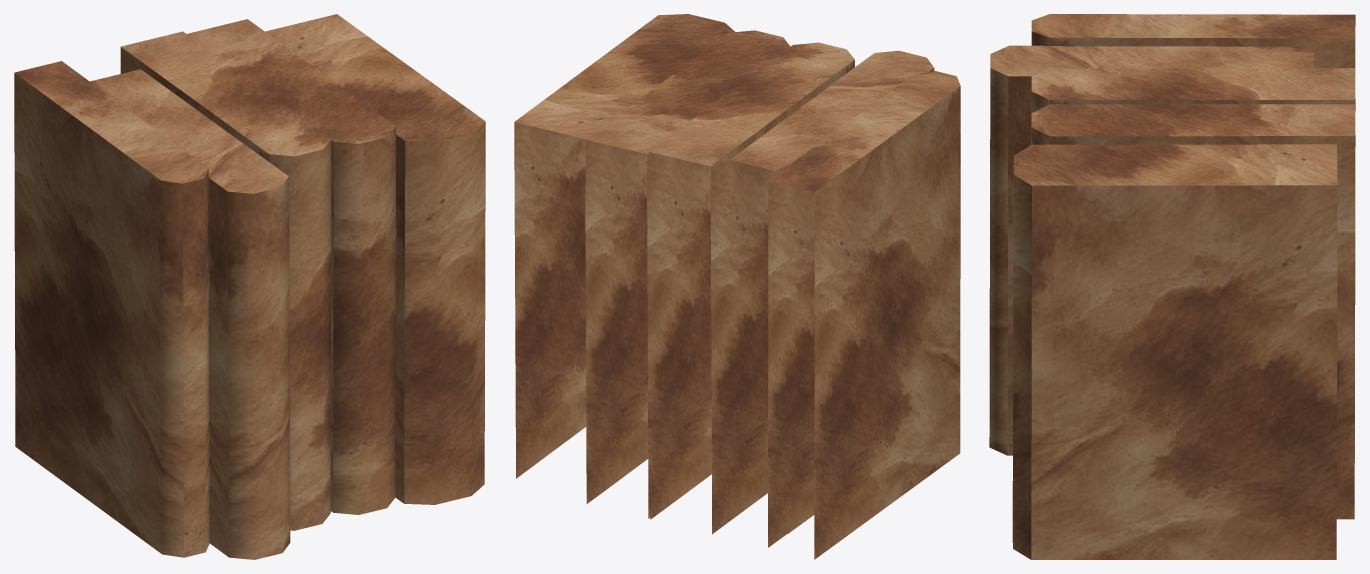
File: tr_books_row_3.glb
3 renders of one model, left to right at view 1: azimuth 30°, elevation 25°; view 2: azimuth 150°, elevation 25°; view 3: azimuth 270°, elevation 25°, orthographic. The views are drawn at different scales.
Visible parts, largest first — view 1: model; view 2: model; view 3: model.
Part boxes in pixels (x1,y1,x2,y2): model: (14, 14, 485, 559); model: (514, 14, 960, 559); model: (989, 14, 1355, 559).
Bounding box in the file's own units: 0.2448 × 0.2774 × 0.2372.
1 material, 1 textured.
